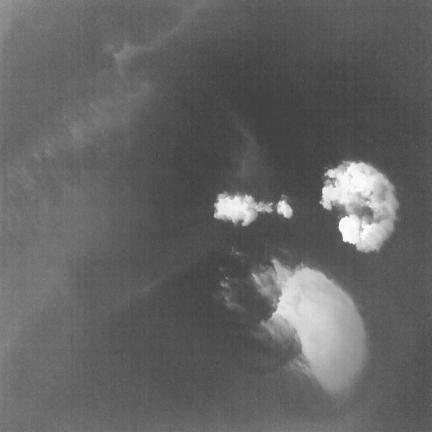flukeprints: (273, 260, 366, 395), (320, 161, 398, 251), (213, 192, 293, 226)
